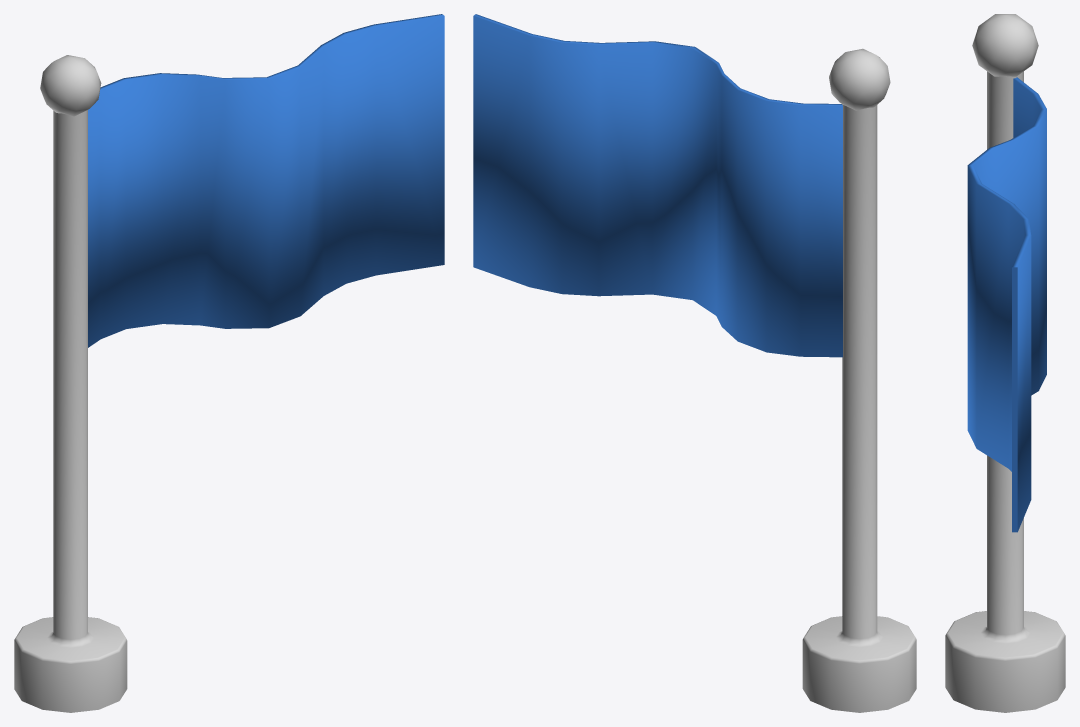
File: Flag.fbx
The picture shows the model from 3 angles, left to right: view 1: azimuth 30°, elevation 25°; view 2: azimuth 150°, elevation 25°; view 3: azimuth 270°, elevation 25°; orthographic projection. The views are drawn at different scales.
Parts seen in each view (by area): view 1: Cylinder; view 2: Cylinder; view 3: Cylinder.
Part boxes in pixels (x1,y1,x2,y2): Cylinder: (14, 14, 444, 712); Cylinder: (473, 14, 916, 712); Cylinder: (945, 14, 1065, 712).
Size of the model in its own units: 134 by 190 by 30.74.
